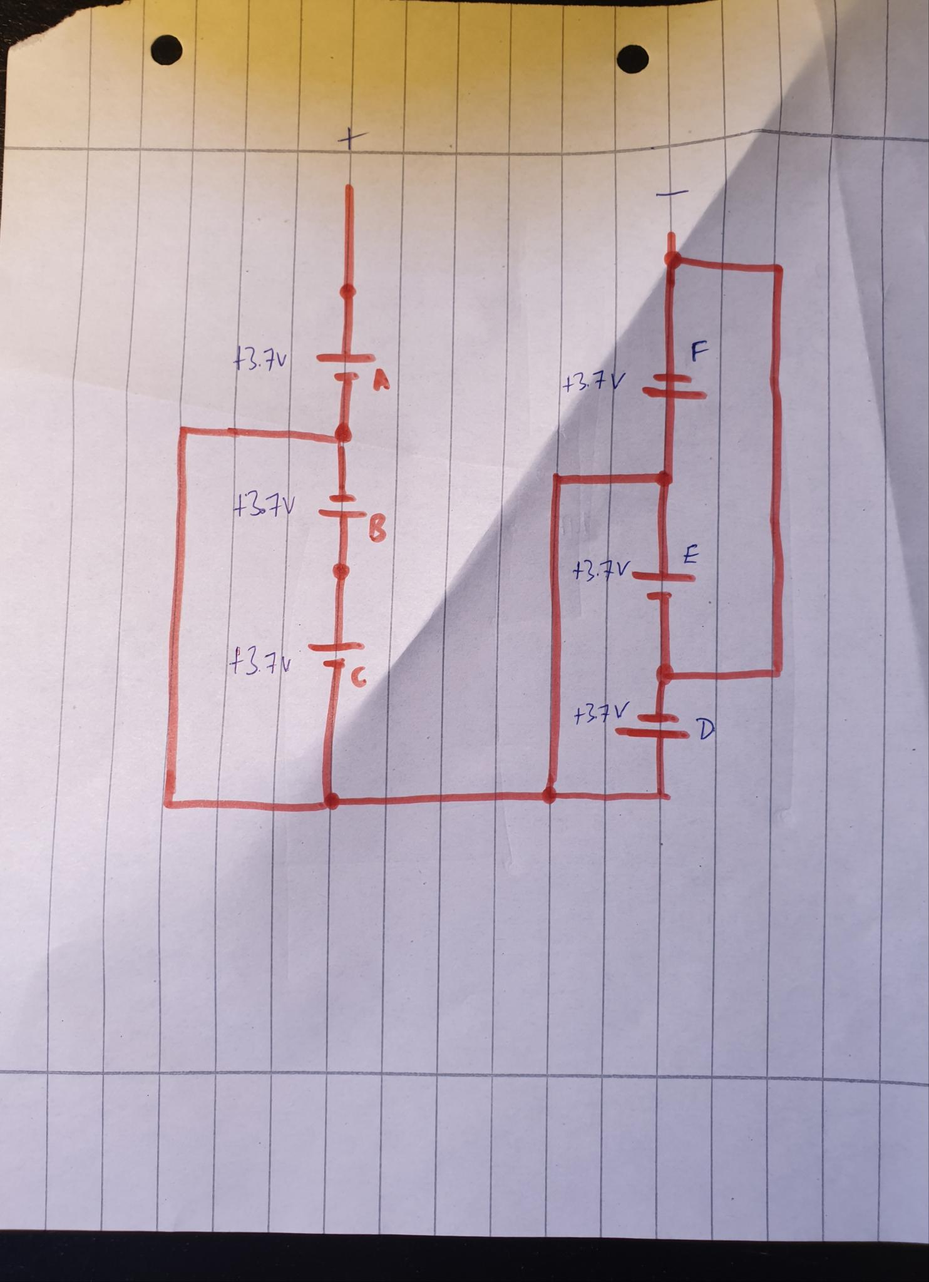junction: (327, 419, 359, 451), (653, 661, 677, 687), (654, 466, 676, 491), (321, 790, 342, 814), (660, 249, 683, 270), (766, 660, 786, 684), (538, 783, 558, 806), (651, 786, 672, 806), (175, 419, 193, 441), (158, 794, 177, 814), (548, 469, 566, 489), (769, 259, 786, 279)
terminal: (341, 180, 359, 193), (664, 227, 679, 240)
text: (228, 643, 295, 678), (232, 486, 297, 520), (561, 366, 627, 395), (231, 343, 290, 374), (570, 556, 635, 582), (572, 699, 630, 726), (332, 125, 371, 151), (650, 183, 693, 201), (366, 510, 388, 545), (687, 338, 712, 367), (694, 715, 717, 742), (349, 664, 371, 689), (681, 541, 701, 568), (371, 367, 391, 393)
voltage.battery: (314, 346, 379, 388), (612, 710, 693, 742), (629, 567, 699, 603), (640, 368, 709, 403), (306, 636, 367, 674), (317, 490, 367, 525)
